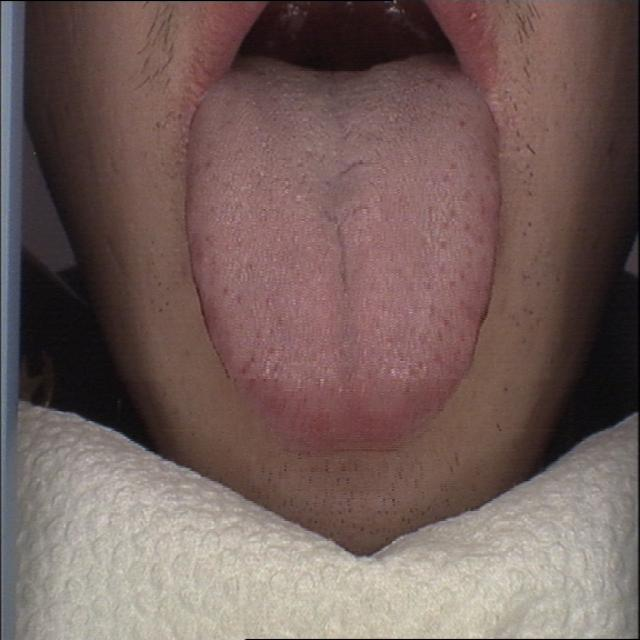tongue: (181, 58, 507, 454)
